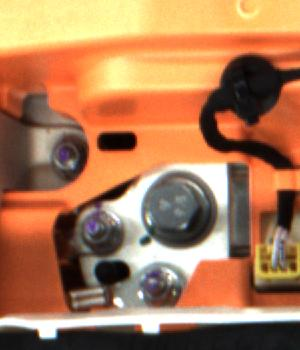nut_b: (139, 164, 222, 249)
screw_s: (76, 208, 116, 251), (136, 263, 179, 303), (49, 138, 86, 178)
